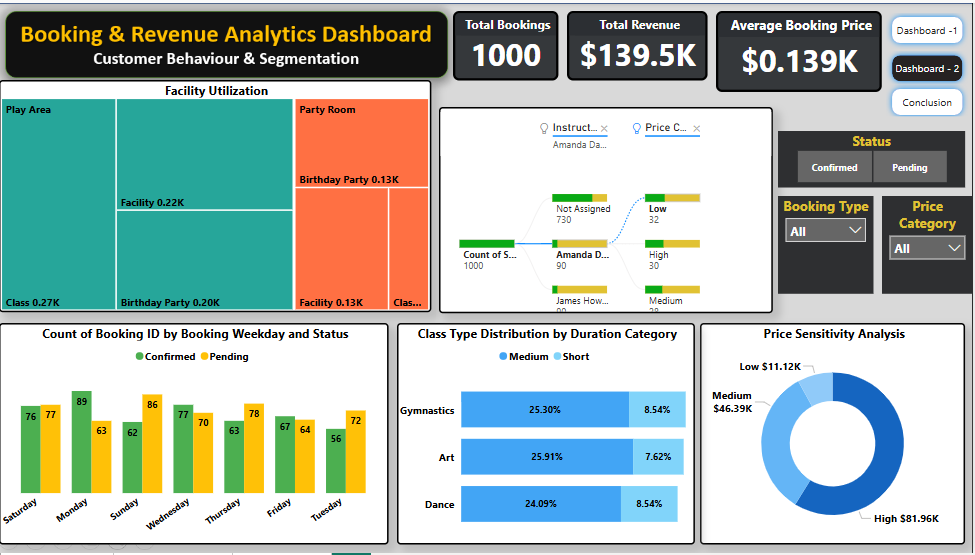

What the dashboard file says about the page in this screenshot:
{"tool":"powerbi","page":{"name":"Dashboard - 2","canvas":[1280,720],"ordinal":1},"visuals":[{"type":"card","title":"Total Revenue","fields":{"Values":["Sum(Sheet1.Price)"]},"box":[748.7,11,184.4,90.8],"z":0},{"type":"card","title":"Total Bookings","fields":{"Values":["Sheet1.Total Bookings"]},"box":[600.1,11,137.6,90.8],"z":1000},{"type":"card","title":"Average Booking Price","fields":{"Values":["Sheet1.Avg Booking Price"]},"box":[944.2,11,217.5,106],"z":2000},{"type":"donutChart","title":"Price Sensitivity Analysis","fields":{"Category":["Sheet1.Price Category"],"Y":["Sum(Sheet1.Price)"]},"box":[922.9,418.6,347.1,290],"z":3000},{"type":"clusteredColumnChart","fields":{"Category":["Sheet1.Booking Weekday"],"Y":["CountNonNull(Sheet1.Booking ID)"],"Series":["Sheet1.Status"]},"box":[5.7,418.6,510,290],"z":4000},{"type":"barChart","title":"Class Type Distribution by Duration Category","fields":{"Category":["Sheet1.Class Type"],"Y":["Divide(CountNonNull(Sheet1.Class Type), ScopedEval(CountNonNull(Sheet1.Class Type), []))"],"Series":["Sheet1.Duration Category"]},"box":[525.7,418.6,390,290],"z":5000},{"type":"treemap","title":"Facility Utilization","fields":{"Group":["Sheet1.Facility"],"Values":["CountNonNull(Sheet1.Booking ID)"],"Details":["Sheet1.Service Type"]},"box":[5.7,101.4,565.7,304.3],"z":6000},{"type":"decompositionTreeVisual","fields":{"Analyze":["CountNonNull(Sheet1.Status)"],"ExplainBy":["Sheet1.Instructor","Sheet1.Price Category"]},"box":[581.4,135.7,437.1,270],"z":7000},{"type":"slicer","title":"Status","fields":{"Values":["Sheet1.Status"]},"box":[1025.4,167.9,245,74.3],"z":8000},{"type":"slicer","title":"Booking Type","fields":{"Values":["Sheet1.Booking Type"]},"box":[1025.4,253.2,125.2,128],"z":9000},{"type":"slicer","title":"Price Category","fields":{"Values":["Sheet1.Price Category"]},"box":[1161.2,252.7,119.1,128.3],"z":10000},{"type":"pageNavigator","box":[1165.8,11,108.7,140.4],"z":11000}]}

Visuals, with their boxes in screenshot pixels (x1, y1, x2, y2), scaled from the page's 1280x720 canvas onto the 975x555 screenshot:
"Total Revenue" card: <region>570, 8, 711, 78</region>
"Total Bookings" card: <region>457, 8, 562, 78</region>
"Average Booking Price" card: <region>719, 8, 885, 90</region>
"Price Sensitivity Analysis" donutChart: <region>703, 323, 967, 546</region>
clusteredColumnChart - Sheet1.Booking Weekday x CountNonNull(Sheet1.Booking ID): <region>4, 323, 393, 546</region>
"Class Type Distribution by Duration Category" barChart: <region>400, 323, 698, 546</region>
"Facility Utilization" treemap: <region>4, 78, 435, 313</region>
decompositionTreeVisual - CountNonNull(Sheet1.Status) x Sheet1.Instructor: <region>443, 105, 776, 313</region>
"Status" slicer: <region>781, 129, 968, 187</region>
"Booking Type" slicer: <region>781, 195, 876, 294</region>
"Price Category" slicer: <region>885, 195, 974, 294</region>
pageNavigator: <region>888, 8, 971, 117</region>
